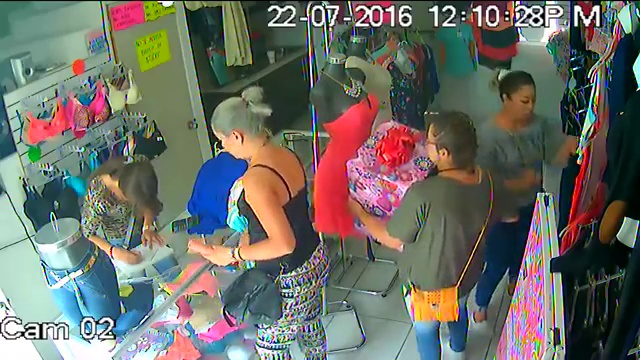face: (509, 86, 537, 118)
